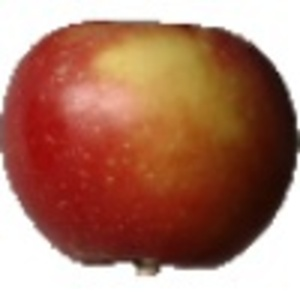maçã braeburn: (1, 17, 297, 270)
